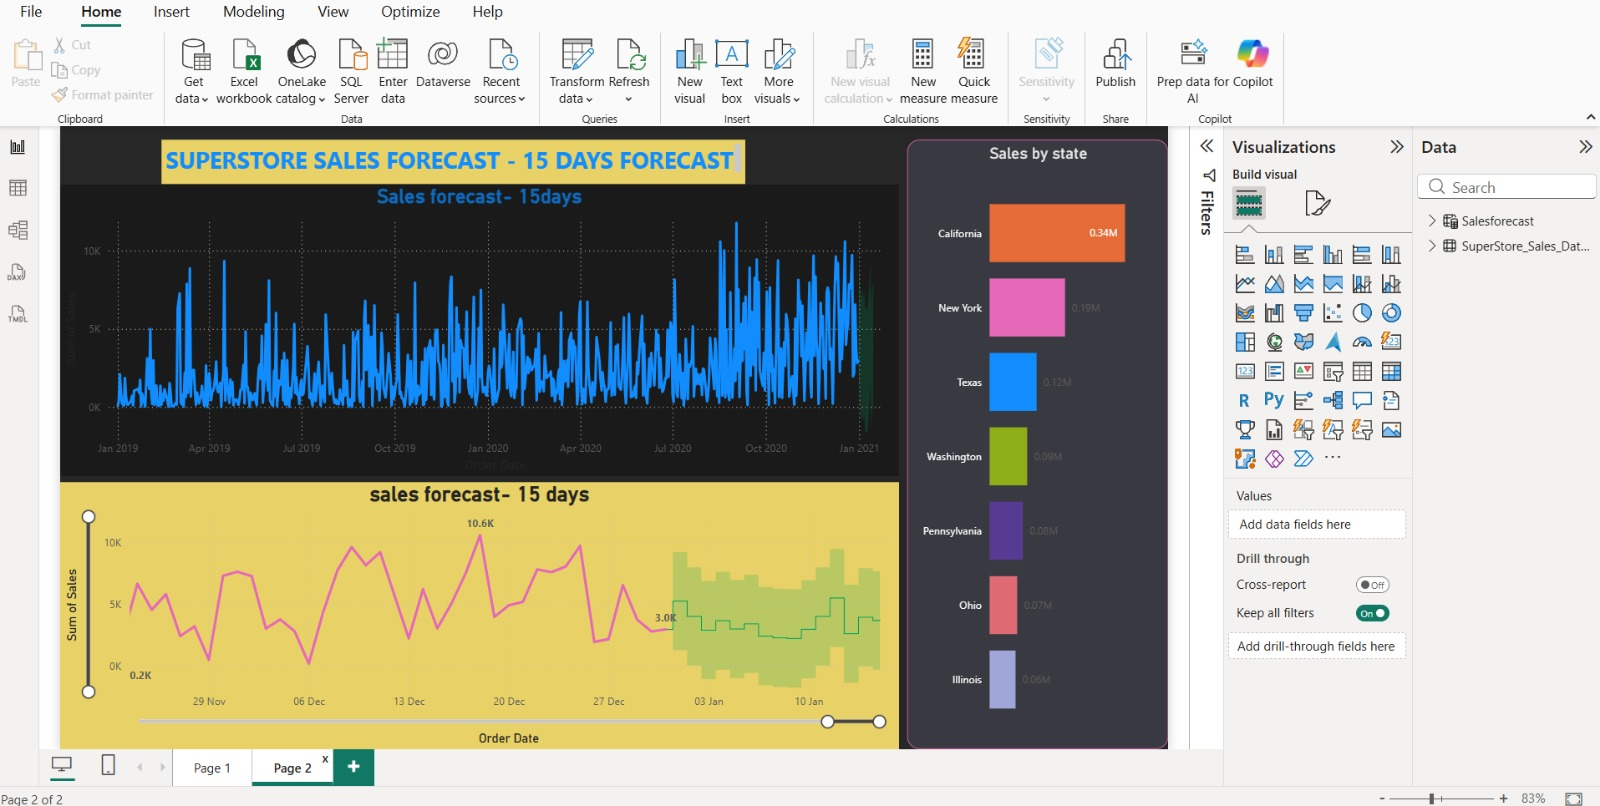

The page's visual inventory and layout, read from the dashboard file:
{"tool":"powerbi","page":{"name":"Page 2","canvas":[1280,720],"ordinal":1},"visuals":[{"type":"lineChart","title":"Sales forecast- 15days","fields":{"Category":["SuperStore_Sales_Dataset.Order Date"],"Y":["Sum(SuperStore_Sales_Dataset.Sales)"]},"box":[0,67.1,968.6,337.1],"z":0},{"type":"lineChart","title":"sales forecast- 15 days","fields":{"Category":["SuperStore_Sales_Dataset.Order Date"],"Y":["Sum(SuperStore_Sales_Dataset.Sales)"]},"box":[0,411.4,968.6,308.6],"z":1000},{"type":"clusteredBarChart","title":" Sales by state","fields":{"Category":["SuperStore_Sales_Dataset.State"],"Y":["Sum(SuperStore_Sales_Dataset.Sales)"]},"box":[978.6,15.7,301.4,704.3],"z":2000},{"type":"textbox","box":[117.1,15.7,674.3,51.4],"z":3000}]}

Visuals, with their boxes on the page's 1280x720 design canvas (x1, y1, x2, y2). These are canvas units, not pixel positions in the 1600x806 screenshot, which may show the page scaled, cropped or inside an application window:
"Sales forecast- 15days" lineChart: x1=0 y1=67 x2=969 y2=404
"sales forecast- 15 days" lineChart: x1=0 y1=411 x2=969 y2=720
" Sales by state" clusteredBarChart: x1=979 y1=16 x2=1280 y2=720
textbox: x1=117 y1=16 x2=791 y2=67
